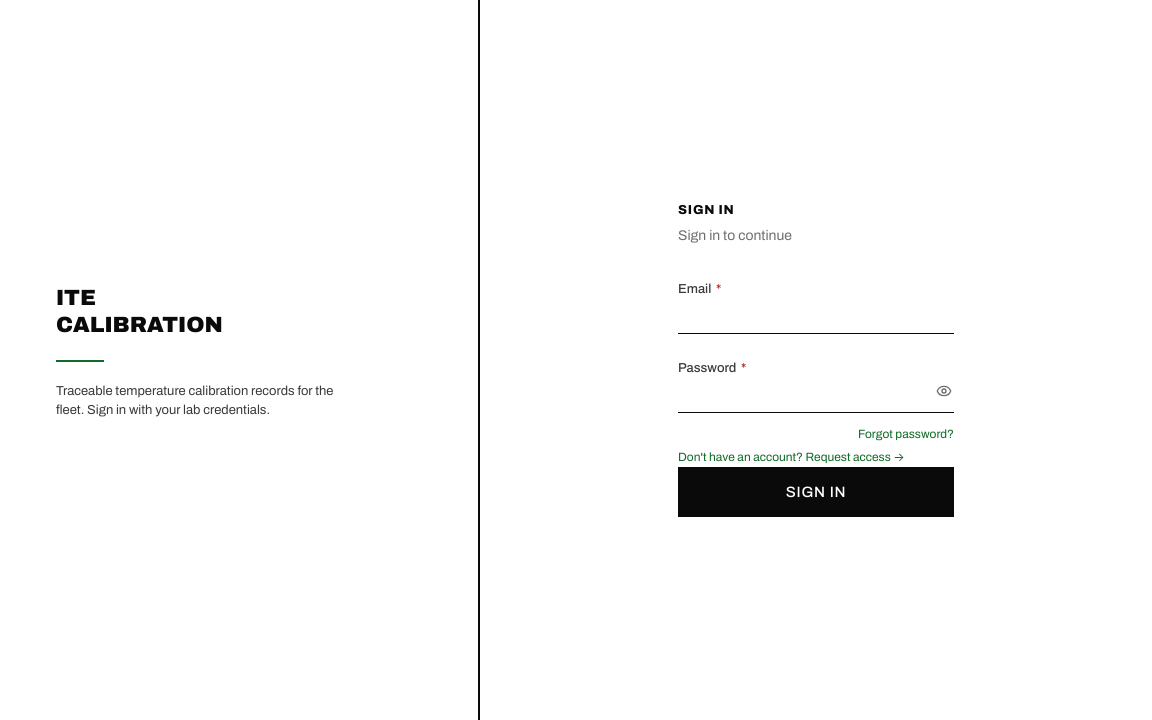
Scenario: LoginPage › shows validation error for invalid email
Type "not-an-email" into the field labelled "Email *" at [816, 319], box [678, 304, 954, 334]
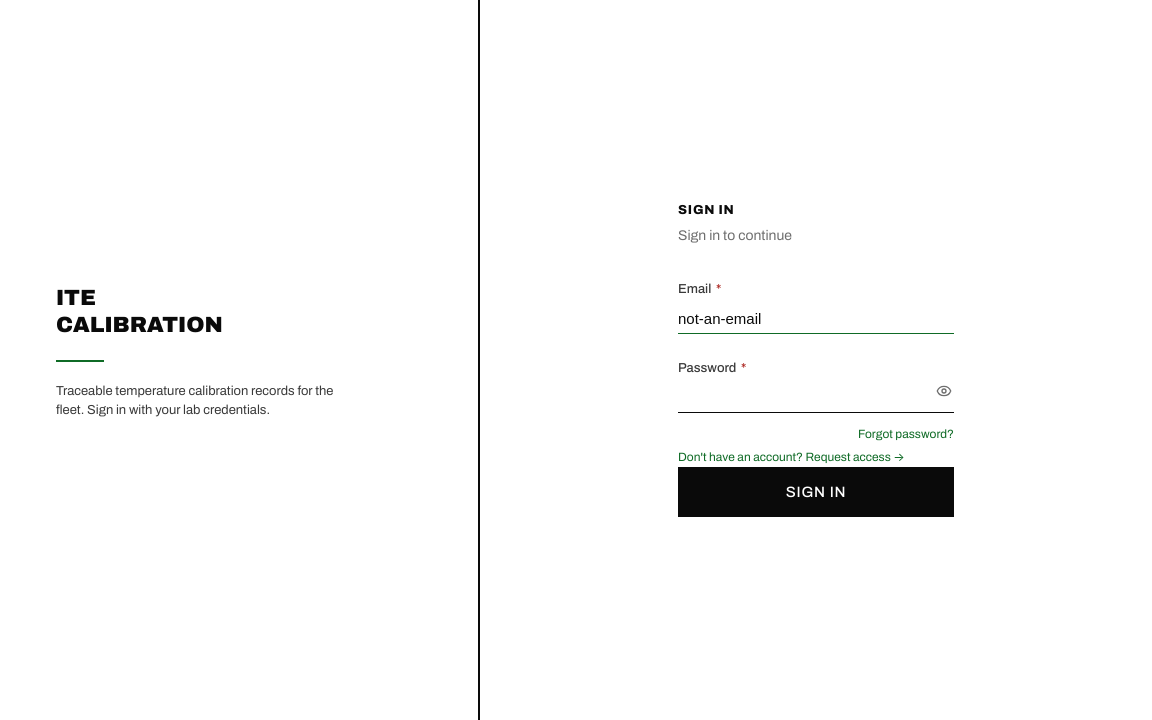
Type "anything" into the password field labelled "Password *" at [816, 398], box [678, 383, 954, 413]
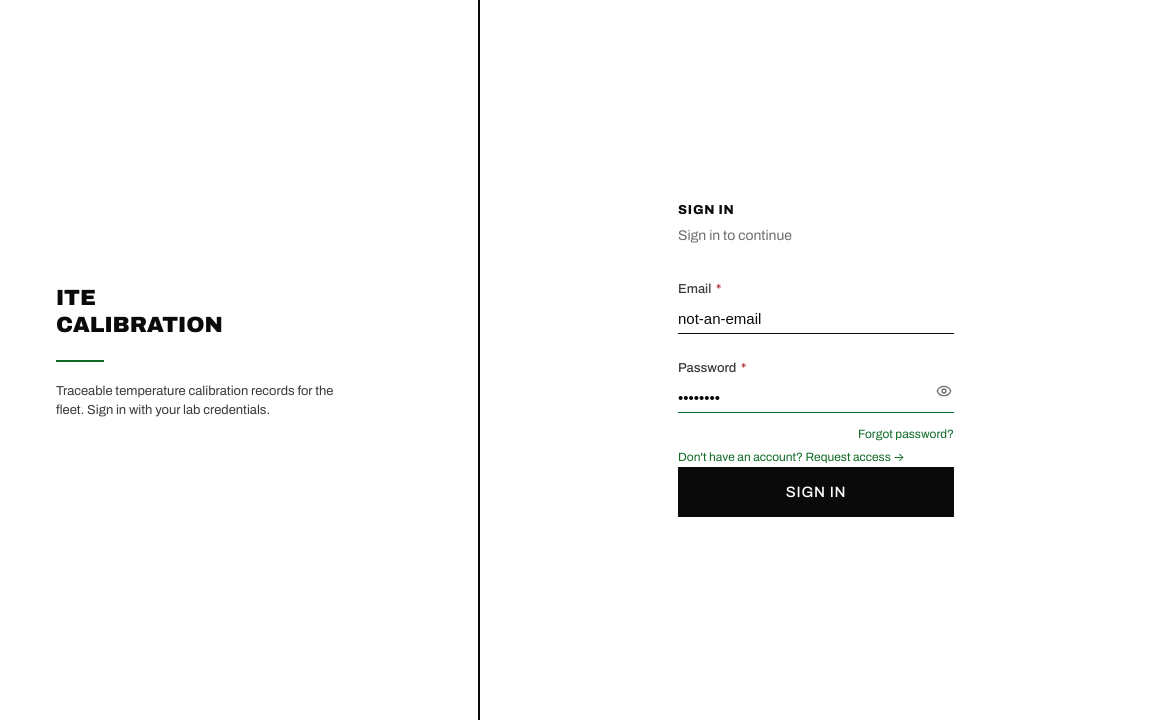
Click the button "Sign in" at [816, 492], box [678, 467, 954, 517]
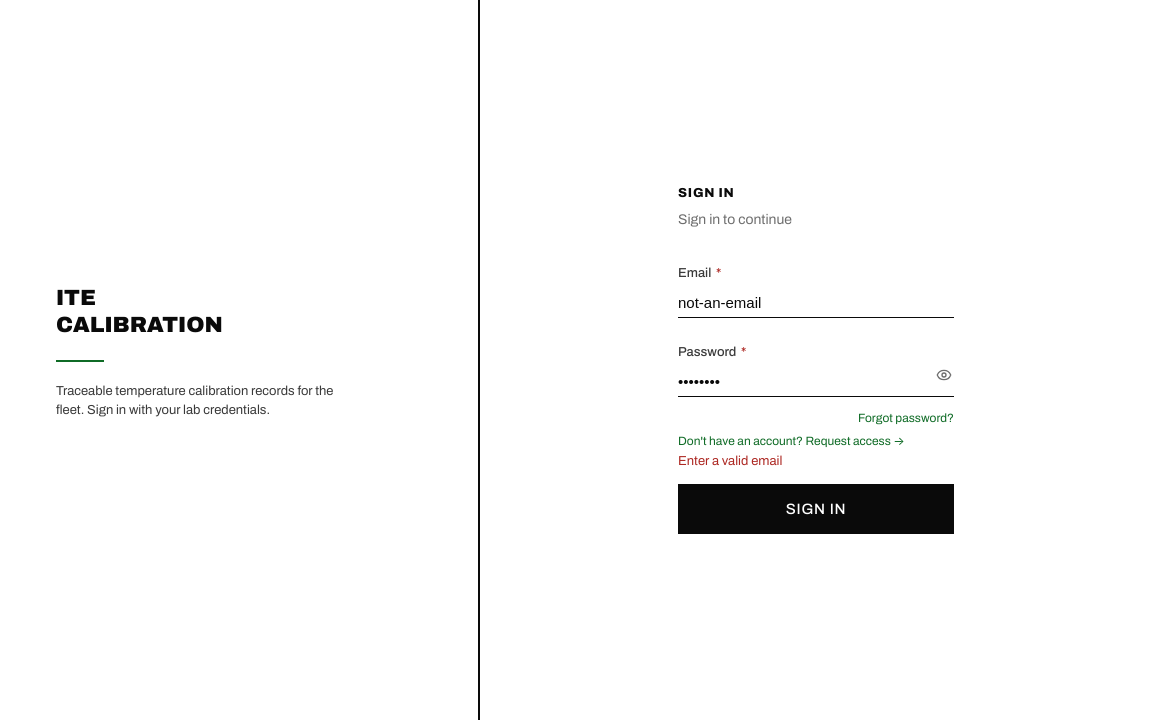
Now the text "Enter a valid email" is shown, box [678, 454, 782, 468]
